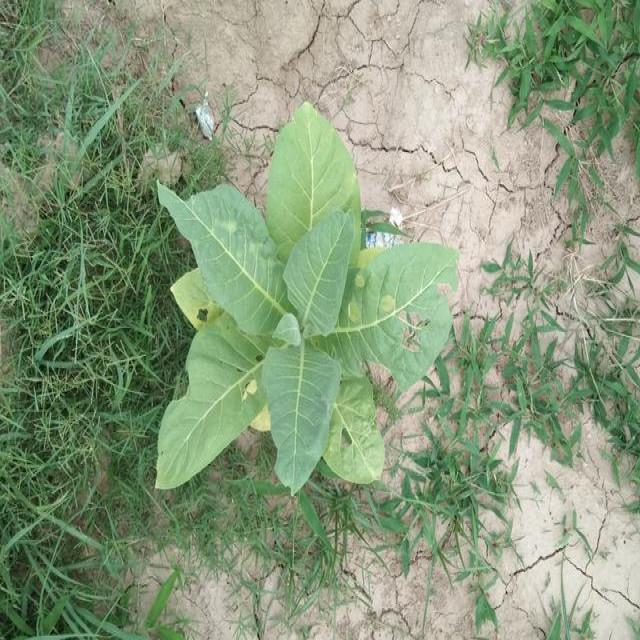crop: (146, 96, 469, 519)
